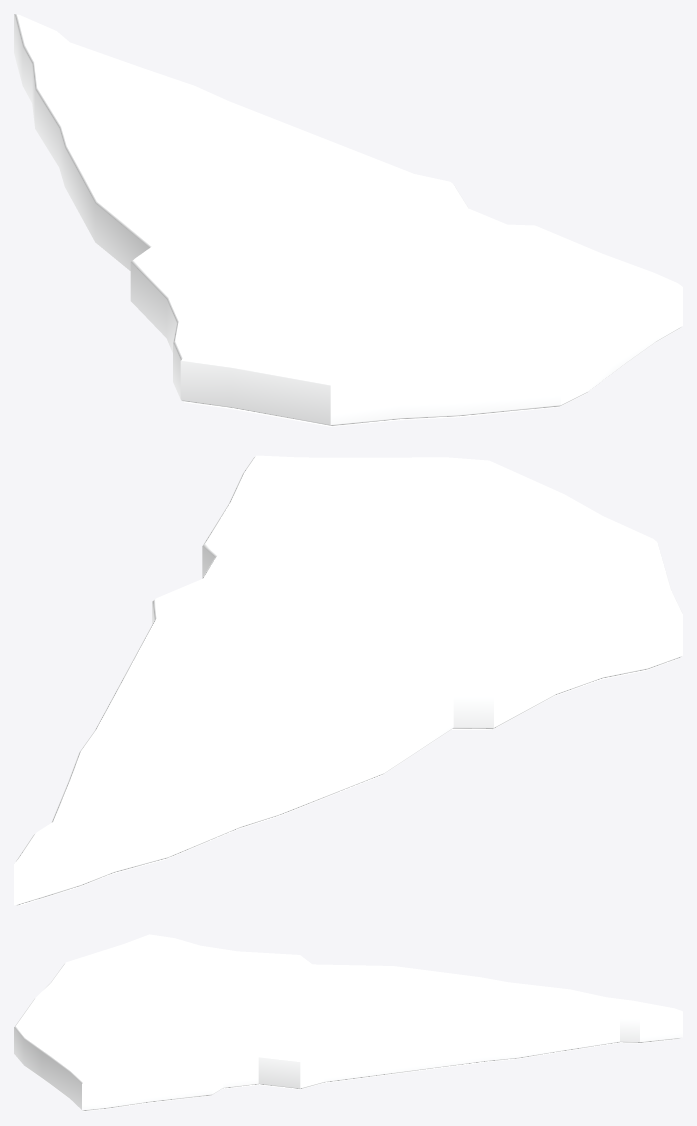
File: ice_floe_large_002.glb
The picture shows the model from 3 angles, top to bottom: view 1: azimuth 30°, elevation 25°; view 2: azimuth 150°, elevation 25°; view 3: azimuth 270°, elevation 25°; orthographic projection. The views are drawn at different scales.
Visible parts, largest first — view 1: ice_floe_large_002; view 2: ice_floe_large_002; view 3: ice_floe_large_002.
Part boxes in pixels (x1,y1,x2,y2): ice_floe_large_002: [14, 14, 682, 426]; ice_floe_large_002: [14, 455, 682, 905]; ice_floe_large_002: [14, 934, 682, 1111].
Bounding box in the file's own units: 10.14 × 1 × 19.31.
1 material, 1 textured.
